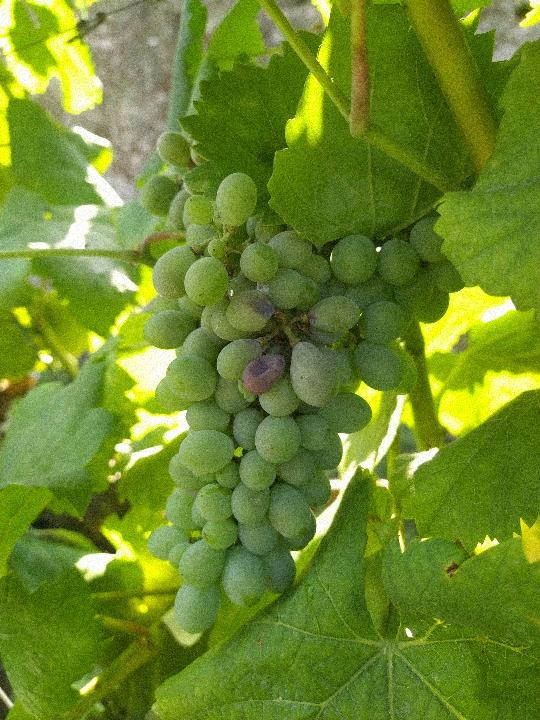grape: (142, 135, 464, 634)
